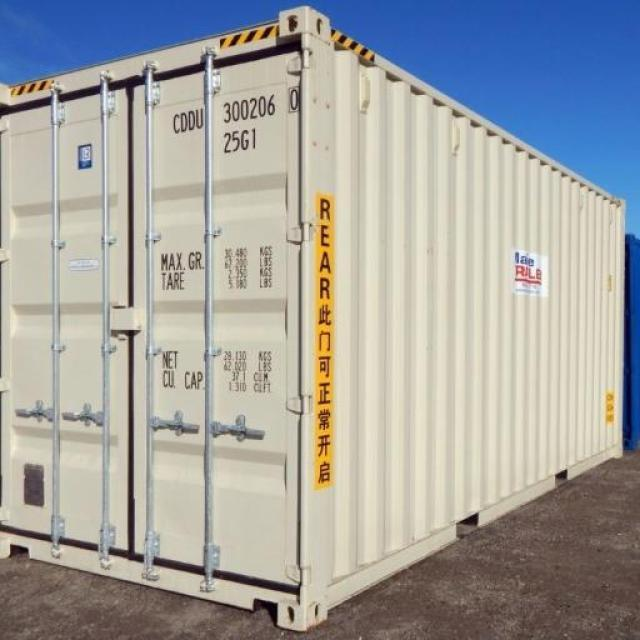ISO: (224, 127, 262, 153)
container_number: (172, 95, 292, 128)
